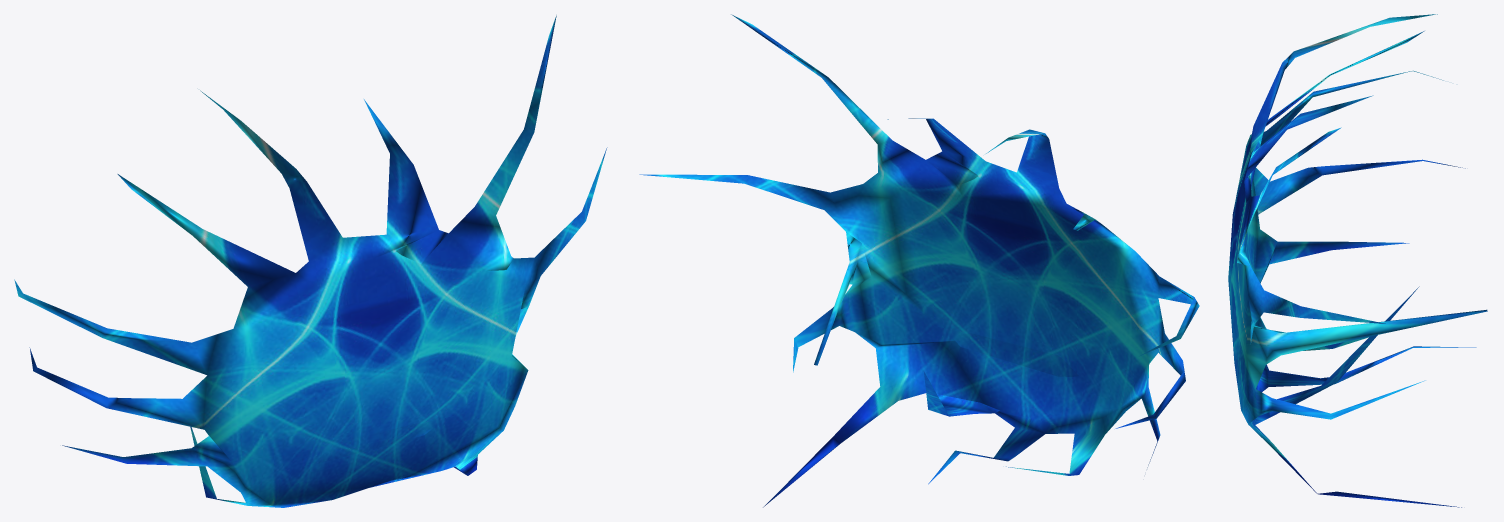
The model's file is Virus1_MOBILE.FBX.
3 views of the same model, side by side, from view 1: azimuth 30°, elevation 25°; view 2: azimuth 150°, elevation 25°; view 3: azimuth 270°, elevation 25° (orthographic). The views are drawn at different scales.
Visible parts, largest first — view 1: Virus1; view 2: Virus1; view 3: Virus1.
Part boxes in pixels (x1,y1,x2,y2): Virus1: (14,15,607,507); Virus1: (639,14,1199,507); Virus1: (1228,14,1487,507).
Bounding box in the file's own units: 3.89 × 2.84 × 1.58.
1 material, 1 textured.
